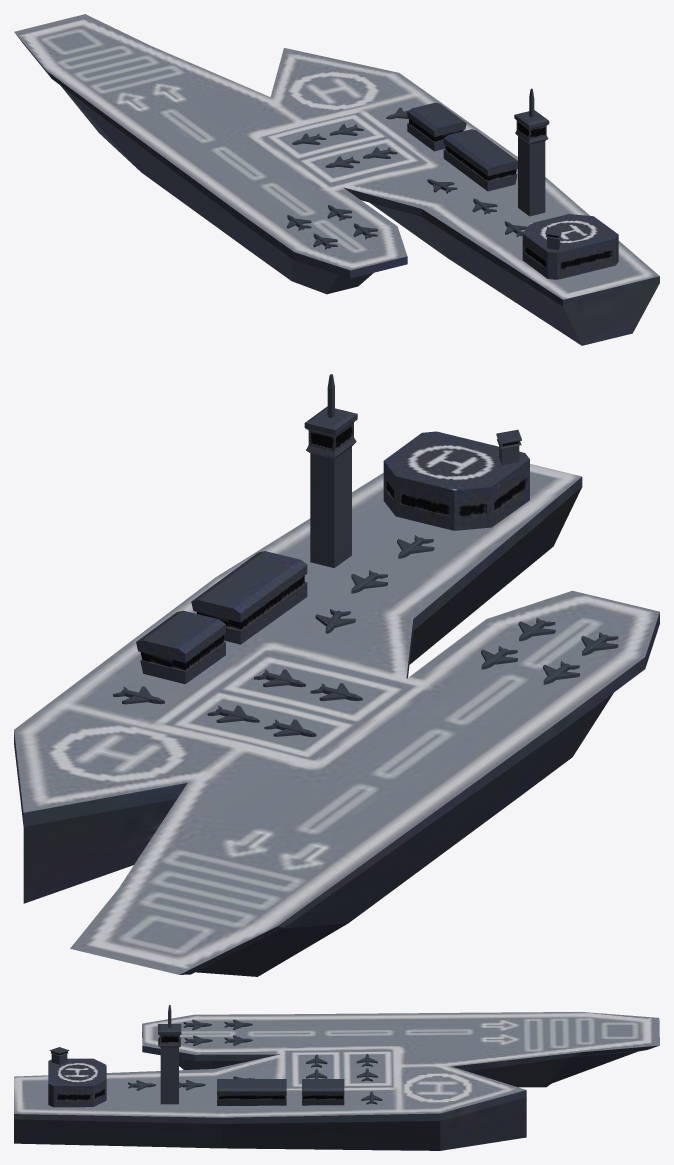
The model's file is portaAviones.fbx.
The picture shows the model from 3 angles, top to bottom: view 1: azimuth 30°, elevation 25°; view 2: azimuth 150°, elevation 25°; view 3: azimuth 270°, elevation 25°; orthographic projection. The views are drawn at different scales.
Visible parts, largest first — view 1: PortaAviones; view 2: PortaAviones; view 3: PortaAviones.
Boxes of the visible parts, bbox=[...] form: PortaAviones: bbox=[14, 14, 659, 345]; PortaAviones: bbox=[14, 374, 659, 976]; PortaAviones: bbox=[14, 1005, 659, 1150].
Bounding box in the file's own units: 810 × 513 × 2128.
